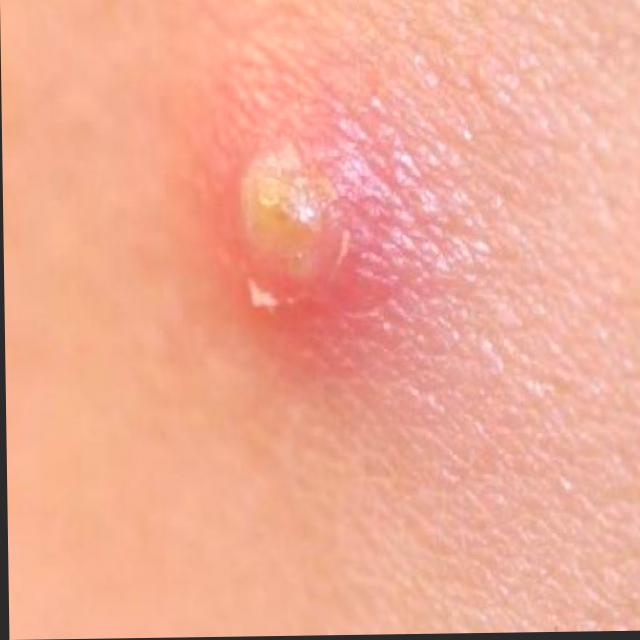blackheads: (219, 137, 396, 332)
